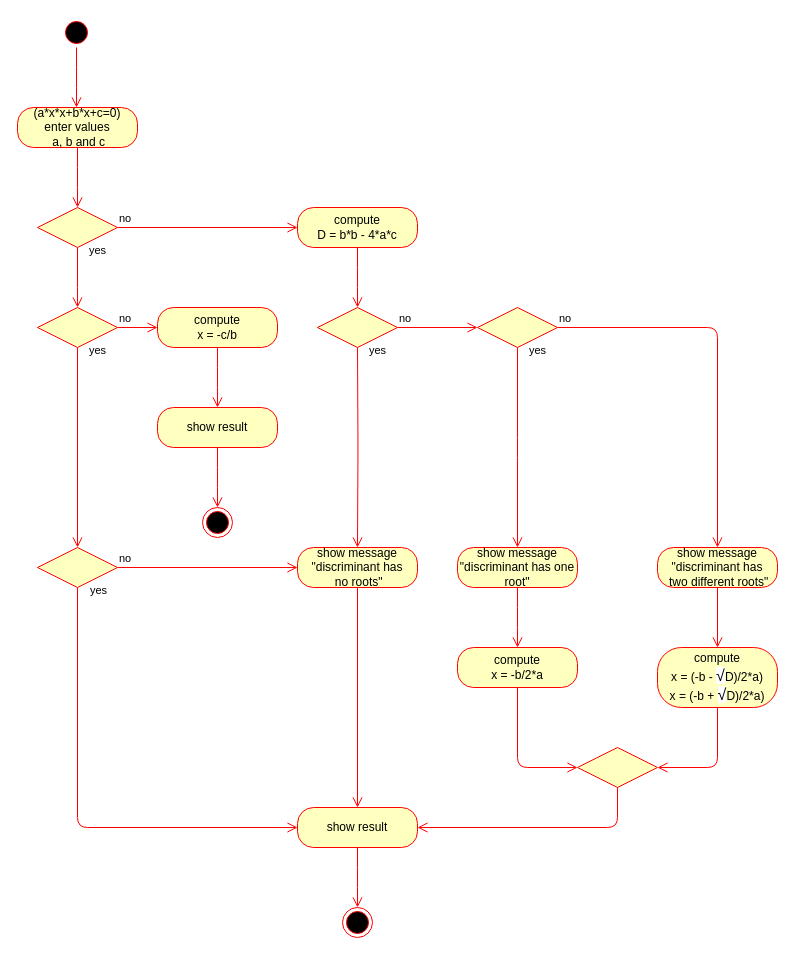
Image size: 795x955. Some labels were removed from this diagram. The centre of each missing label's shape, as x and y in pixels:
"a = 0?" goes at [77,227].
"b = 0?" goes at [77,327].
"c = 0?" goes at [77,567].
"D < 0?" goes at [357,327].
"D = 0?" goes at [517,327].
